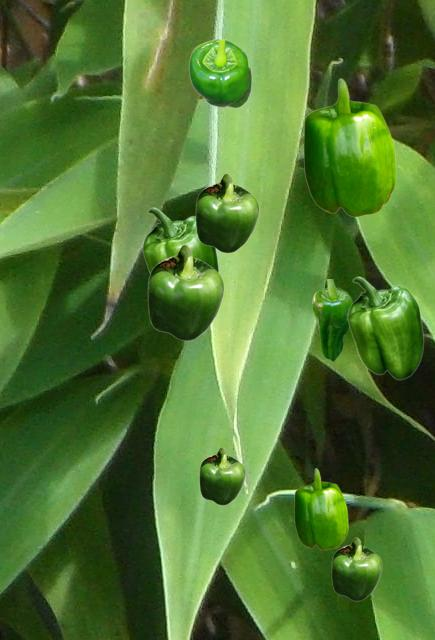bell_pepper: (303, 78, 395, 216), (347, 276, 423, 379), (147, 244, 223, 340), (195, 173, 258, 252), (142, 207, 218, 272), (188, 38, 251, 107), (294, 468, 347, 549), (312, 279, 352, 360), (331, 537, 381, 600), (199, 447, 244, 504)
